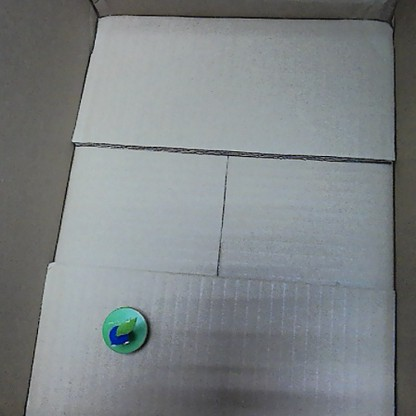leafairy: (98, 305, 149, 355)
